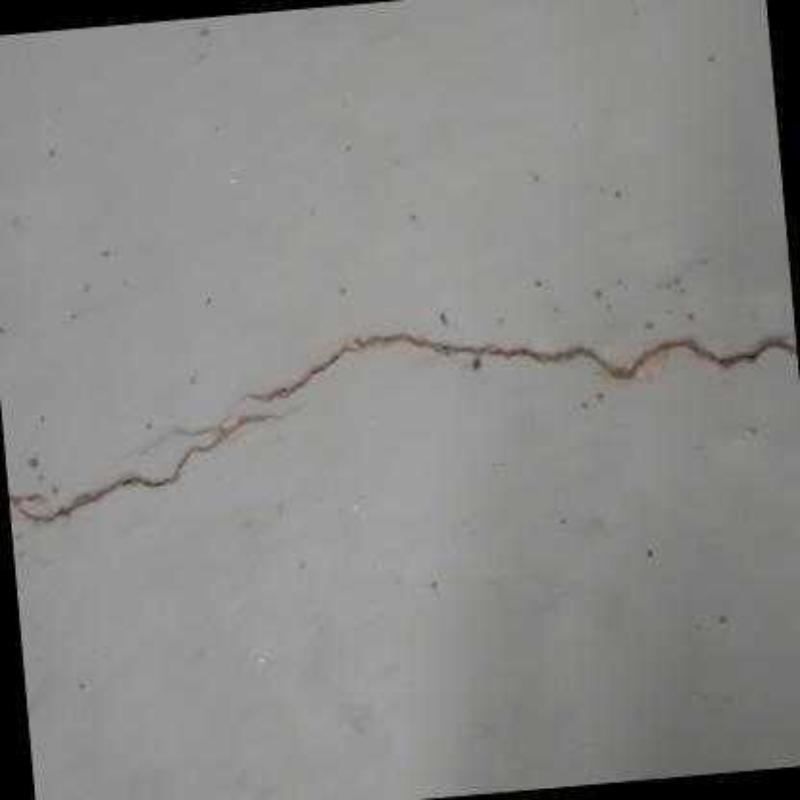pothole: (245, 330, 798, 400), (7, 414, 277, 521)
